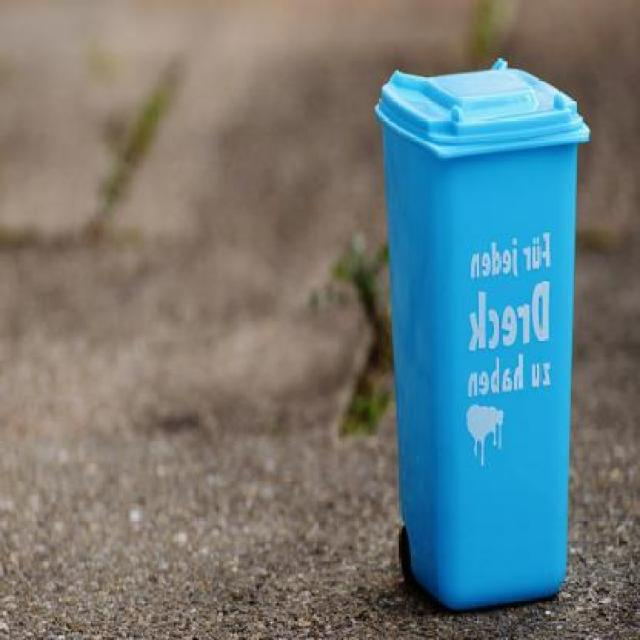garbage container: (360, 48, 602, 618)
